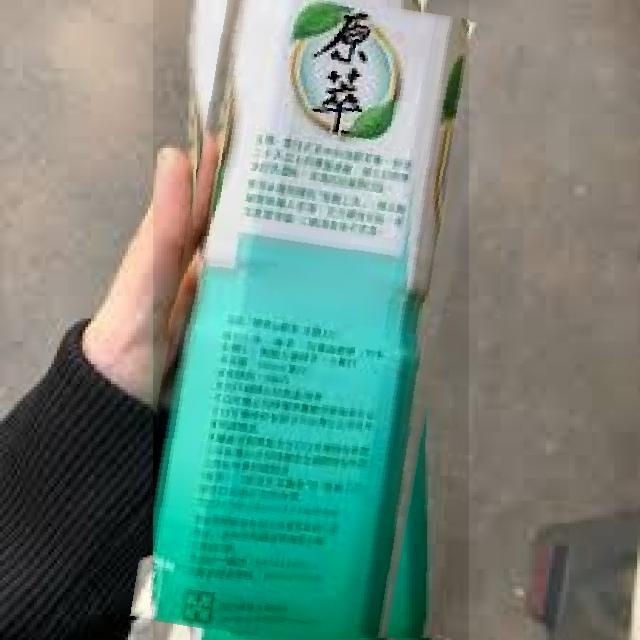YuanTsui_GreenTea: (153, 0, 469, 640)
